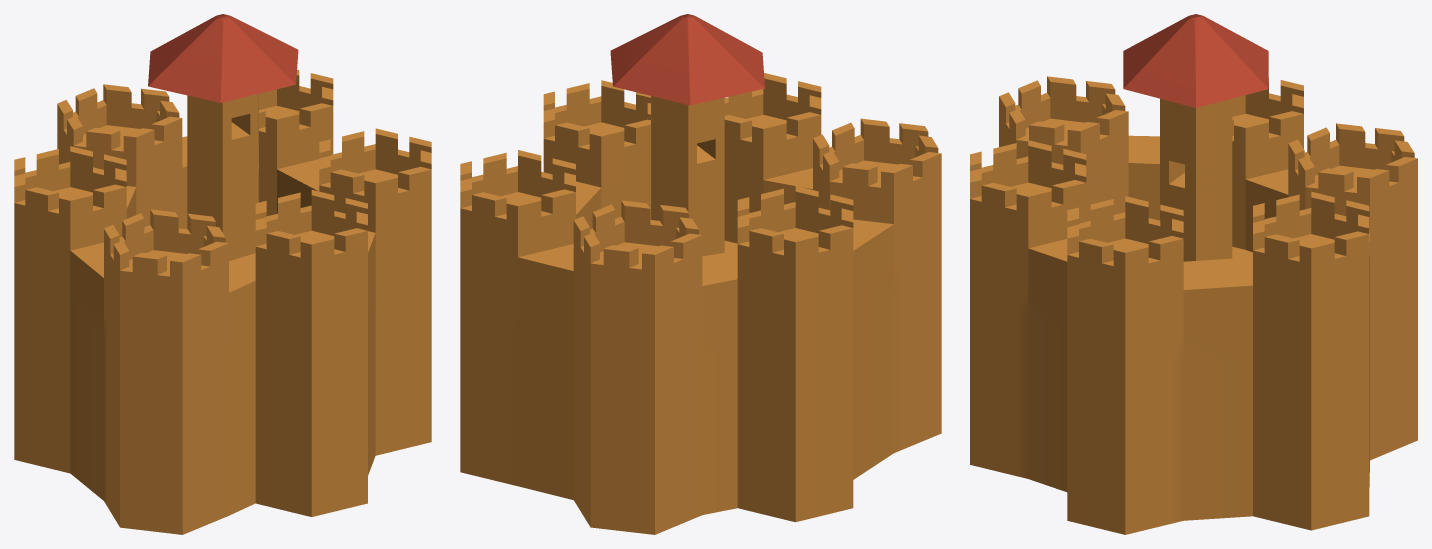
File: castillo.fbx
3 views of the same model, side by side, from view 1: azimuth 30°, elevation 25°; view 2: azimuth 150°, elevation 25°; view 3: azimuth 270°, elevation 25° (orthographic). The views are drawn at different scales.
Parts seen in each view (by area): view 1: TorresAnchas3; view 2: TorresAnchas3; view 3: TorresAnchas3.
Boxes of the visible parts, <box> form: TorresAnchas3: <box>14,14,431,534</box>; TorresAnchas3: <box>460,14,941,534</box>; TorresAnchas3: <box>970,14,1417,534</box>.
Size of the model in its own units: 136 by 150 by 142.
